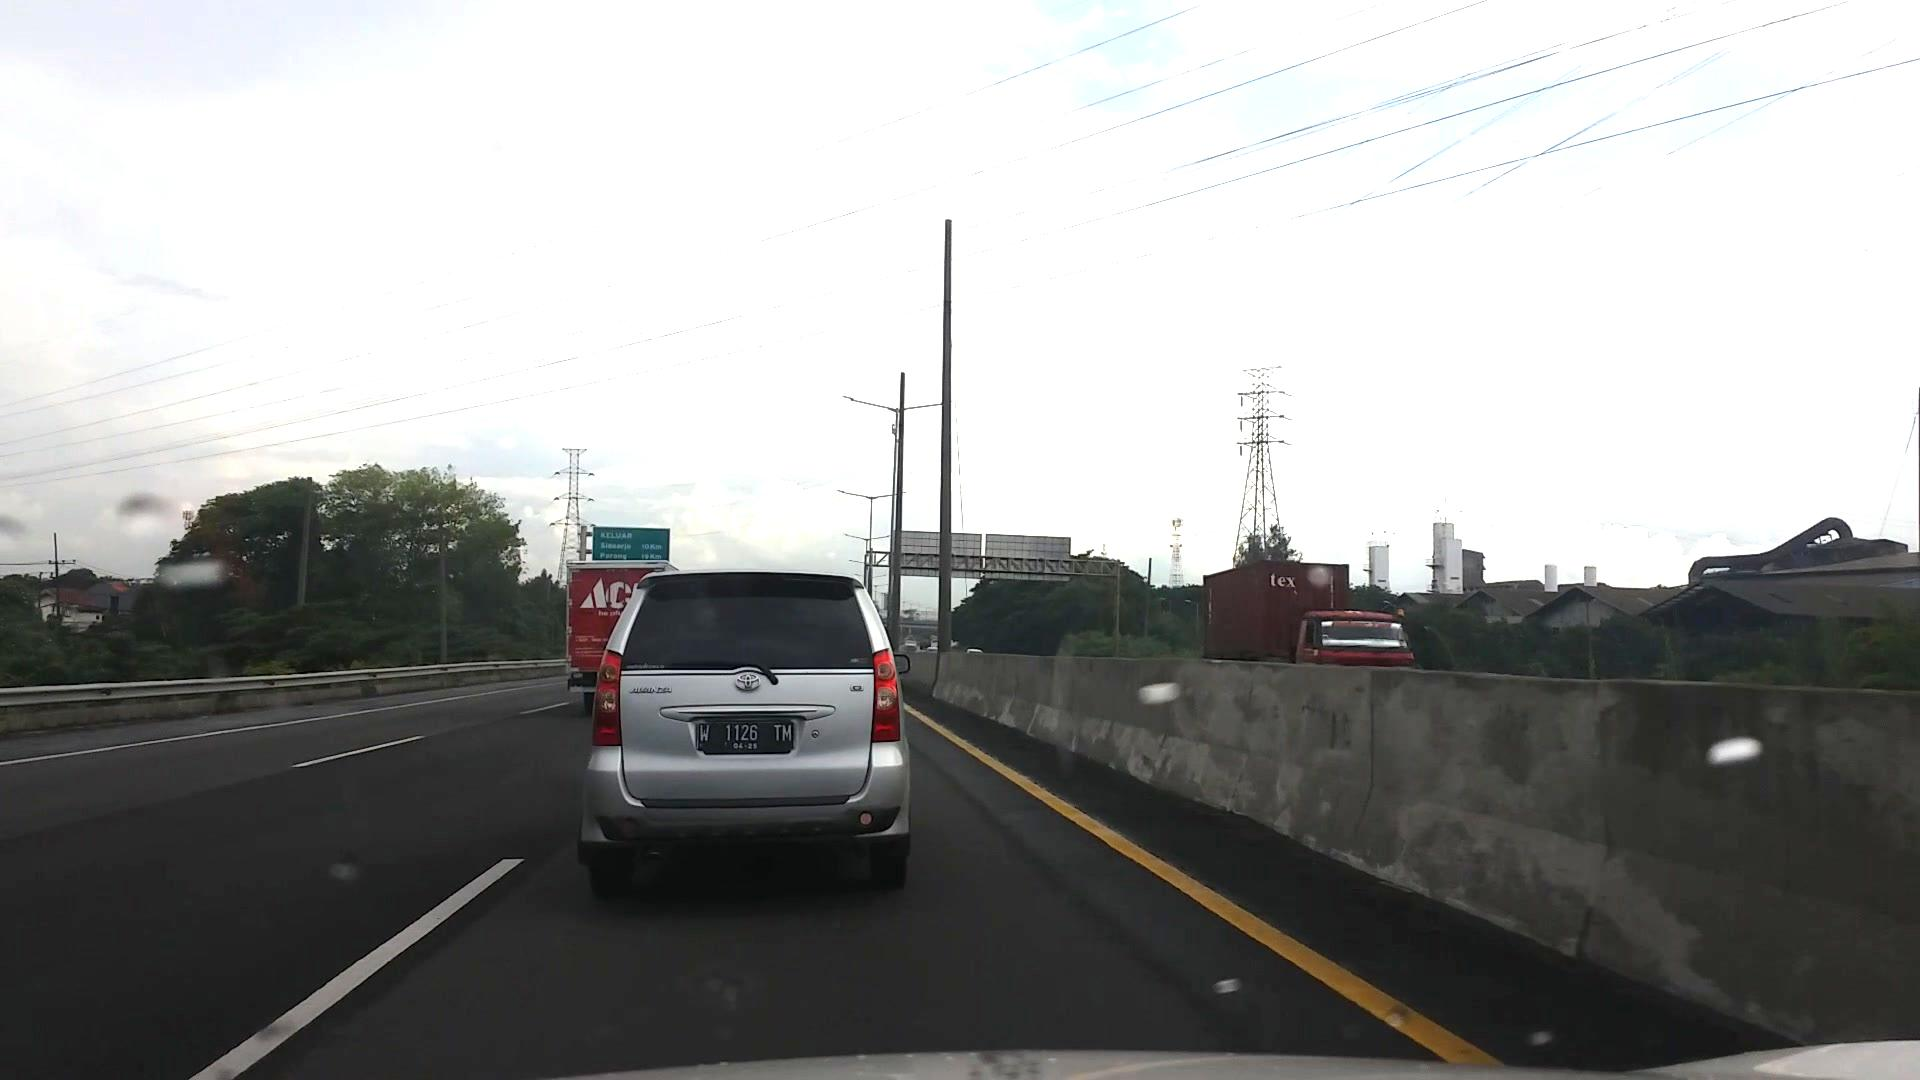plate_positive: (696, 721, 794, 754)
